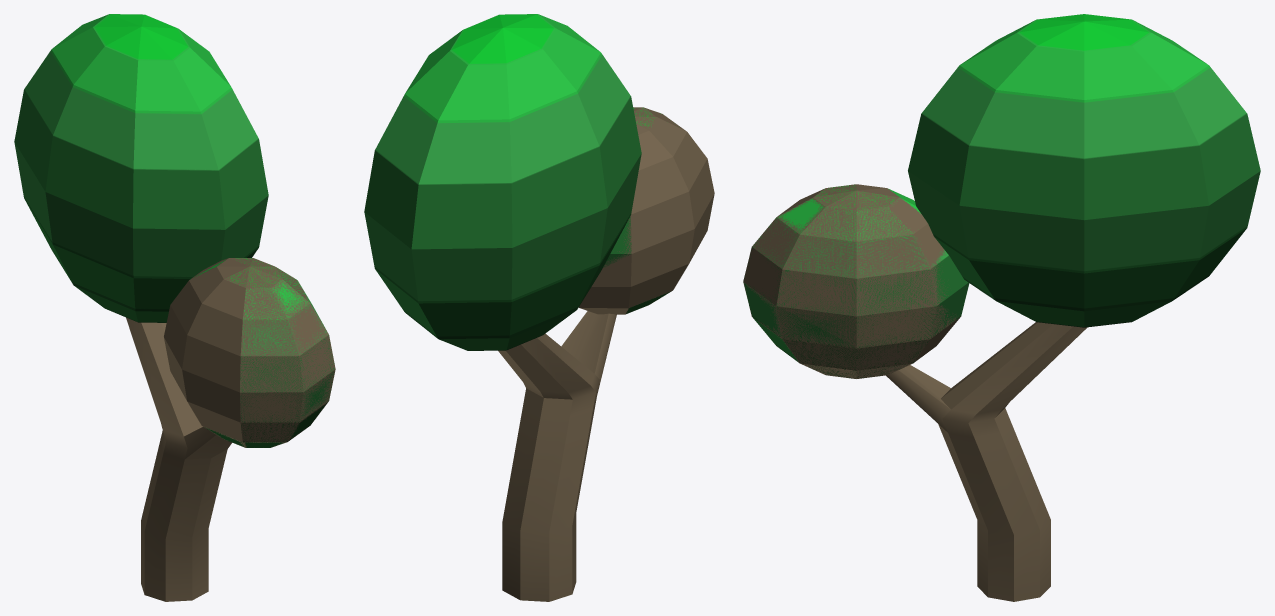
Rendered from tree-2.fbx.
3 renders of one model, left to right at view 1: azimuth 30°, elevation 25°; view 2: azimuth 150°, elevation 25°; view 3: azimuth 270°, elevation 25°, orthographic. The views are drawn at different scales.
Parts seen in each view (by area): view 1: pSphere15; view 2: pSphere15; view 3: pSphere15.
Boxes of the visible parts, x1,y1,x2,y2 form: pSphere15: (14, 14, 335, 601); pSphere15: (364, 14, 714, 601); pSphere15: (743, 14, 1260, 601).
Size of the model in its own units: 6.33 by 16.91 by 14.04.
Materials: 2 (1 with a texture image).
